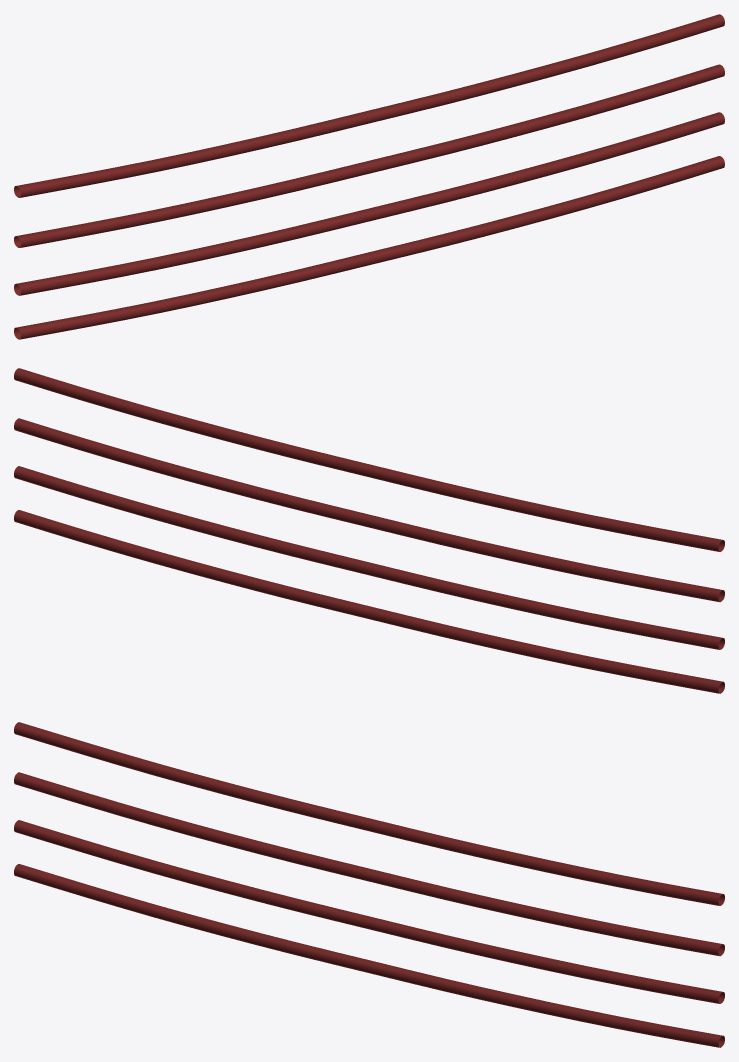
The model's file is SM_PD_Rope_Top_01.fbx.
The picture shows the model from 3 angles, top to bottom: view 1: azimuth 30°, elevation 25°; view 2: azimuth 150°, elevation 25°; view 3: azimuth 330°, elevation 25°; orthographic projection.
Parts seen in each view (by area): view 1: SM_PD_Rope_Top_01; view 2: SM_PD_Rope_Top_01; view 3: SM_PD_Rope_Top_01.
Part boxes in pixels (x1=…): SM_PD_Rope_Top_01: x1=14, y1=14, x2=724, y2=339; SM_PD_Rope_Top_01: x1=14, y1=368, x2=724, y2=693; SM_PD_Rope_Top_01: x1=14, y1=722, x2=724, y2=1047.
Size of the model in its own units: 1768 by 391 by 29.54.
